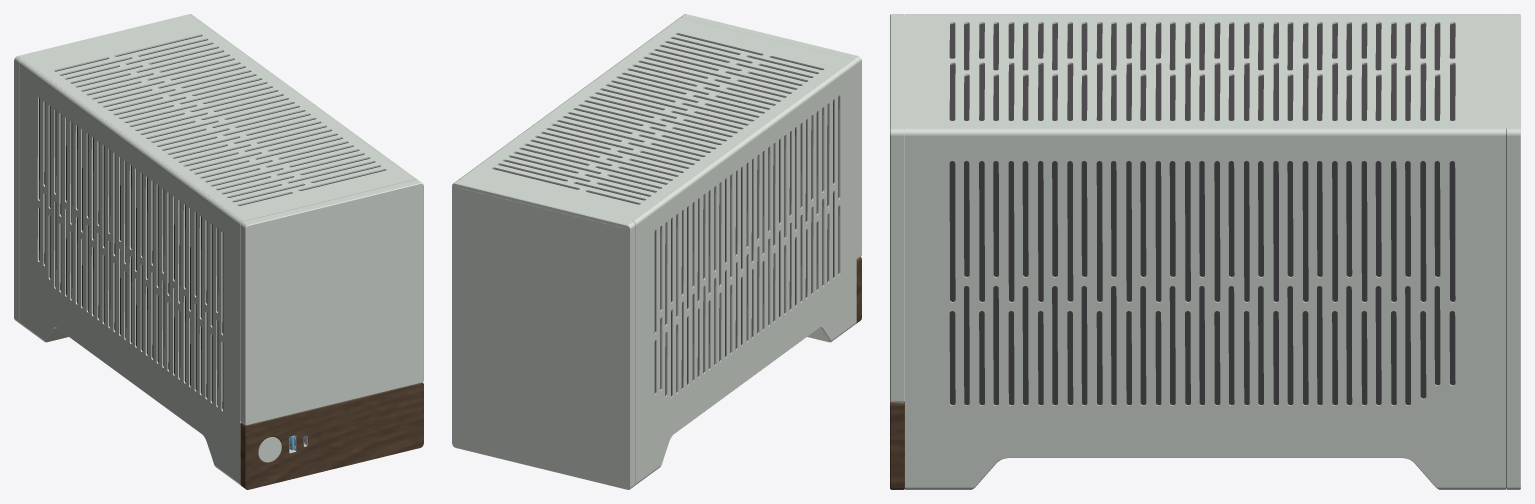
Rendered from terra.glb.
The picture shows the model from 3 angles, left to right: view 1: azimuth 30°, elevation 25°; view 2: azimuth 150°, elevation 25°; view 3: azimuth 270°, elevation 25°; orthographic projection. The views are drawn at different scales.
Parts seen in each view (by area): view 1: Group#117, Group#119, Group#68, Group#71, Group#67, Group#69, Group#66; view 2: Group#117, Group#69, Group#119, Group#71, Group#68; view 3: Group#117, Group#71, Group#119, Group#68, Group#69, Group#67.
Part boxes in pixels (box(x1,y1,x2,y2)): Group#117: box(19, 17, 416, 485); Group#119: box(18, 14, 414, 221); Group#68: box(240, 179, 423, 425); Group#71: box(39, 36, 385, 410); Group#67: box(240, 382, 423, 489); Group#69: box(14, 14, 195, 323); Group#66: box(258, 437, 281, 462); Group#117: box(459, 17, 856, 485); Group#69: box(452, 179, 635, 489); Group#119: box(455, 18, 852, 228); Group#71: box(493, 34, 839, 396); Group#68: box(680, 14, 861, 259); Group#117: box(905, 14, 1505, 489); Group#71: box(949, 24, 1455, 405); Group#119: box(905, 14, 1520, 129); Group#68: box(890, 14, 904, 402); Group#69: box(1506, 14, 1520, 489); Group#67: box(890, 402, 904, 489).
Size of the model in its own units: 0.153 by 0.218 by 0.343.
14 materials, 1 textured.
